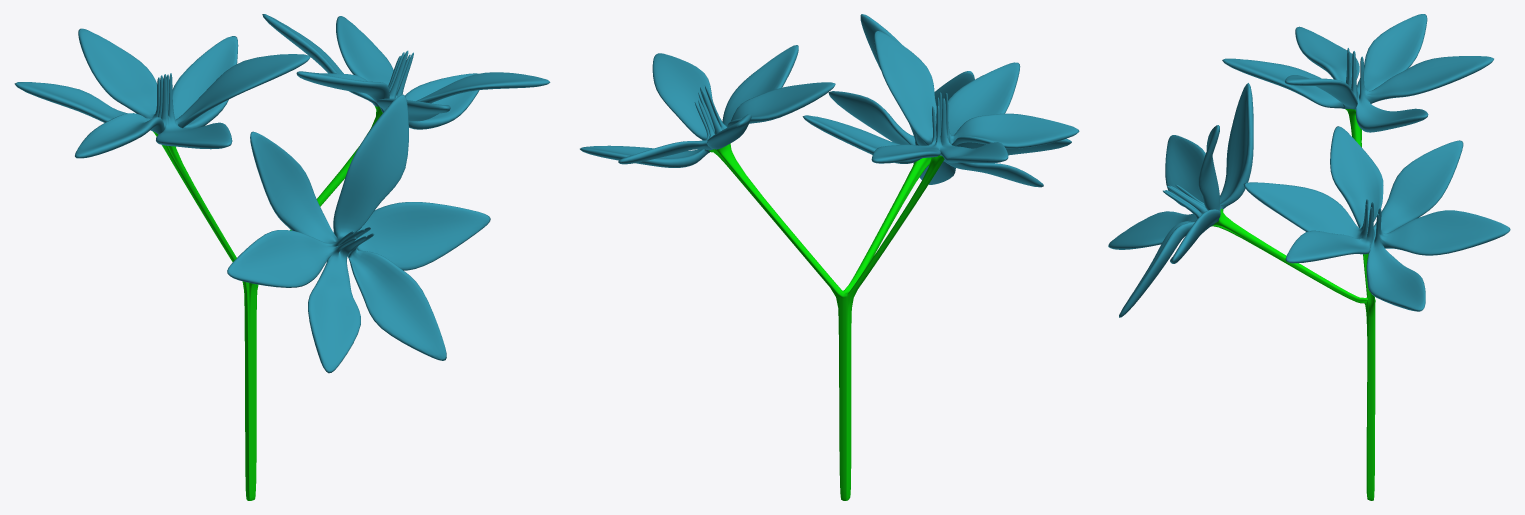
File: tigerlly.fbx
3 renders of one model, left to right at view 1: azimuth 30°, elevation 25°; view 2: azimuth 150°, elevation 25°; view 3: azimuth 270°, elevation 25°, orthographic. The views are drawn at different scales.
Parts seen in each view (by area): view 1: tigerlily; view 2: tigerlily; view 3: tigerlily.
Part boxes in pixels (x1,y1,x2,y2): tigerlily: [14, 14, 550, 500]; tigerlily: [580, 14, 1079, 500]; tigerlily: [1108, 14, 1510, 500].
Size of the model in its own units: 158 by 151 by 129.
